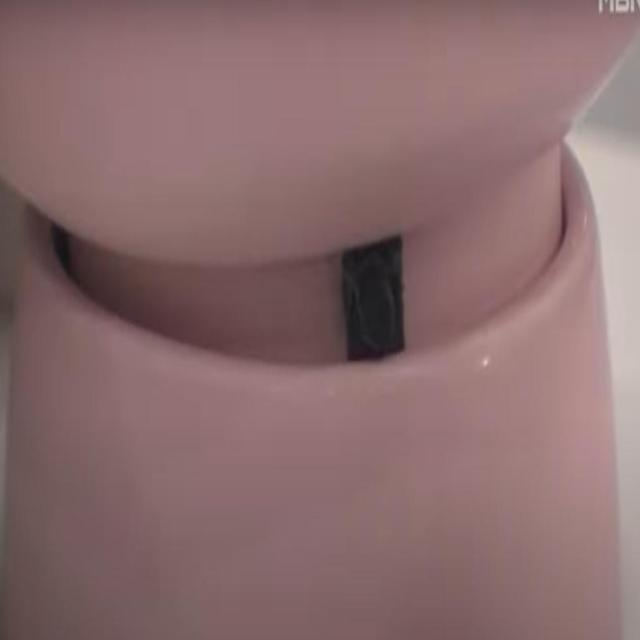hidden camera: (355, 255, 400, 361)
